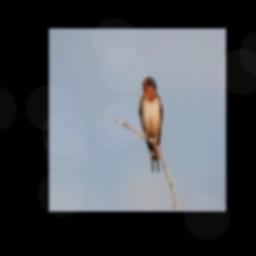Swallow: (139, 77, 162, 172)
